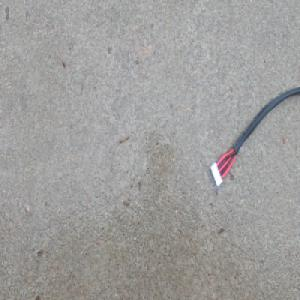Wire: (208, 87, 300, 189)
